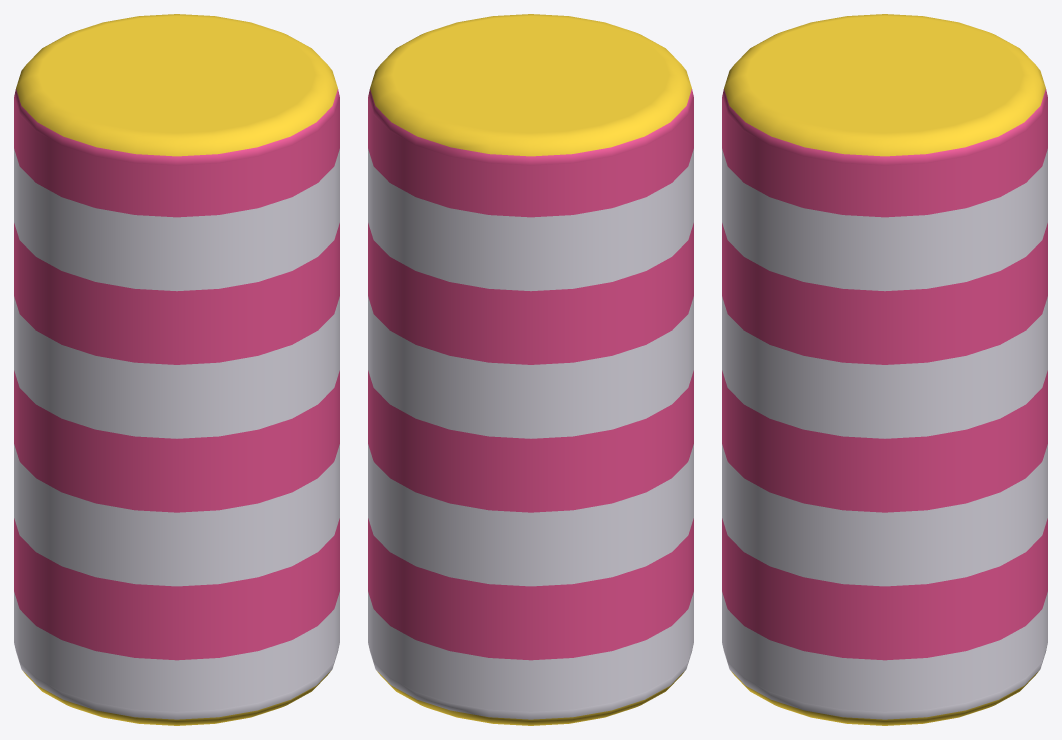
File: pillar_2x4.glb
The picture shows the model from 3 angles, left to right: view 1: azimuth 30°, elevation 25°; view 2: azimuth 150°, elevation 25°; view 3: azimuth 270°, elevation 25°; orthographic projection.
Parts seen in each view (by area): view 1: pillar_2x4; view 2: pillar_2x4; view 3: pillar_2x4.
Boxes of the visible parts, x1,y1,x2,y2 form: pillar_2x4: (14, 14, 339, 725); pillar_2x4: (368, 14, 693, 725); pillar_2x4: (722, 14, 1047, 725).
Size of the model in its own units: 2 by 4 by 2.
Materials: 1 (1 with a texture image).
